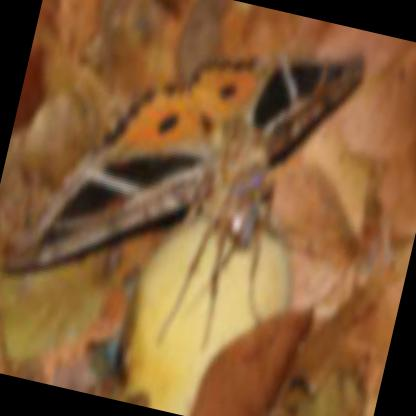fruit sucking moth: (11, 47, 369, 300)
